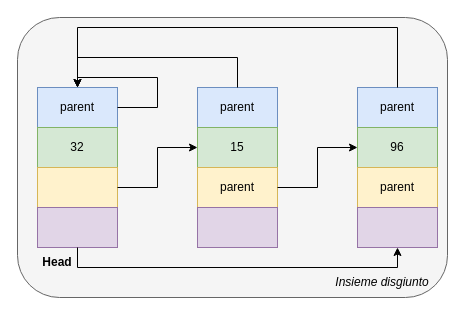
Some shapes in this 465 by 315 pixel diagram are drawn without their labels. The centre of each missing label's shape, as x and y in pixels:
next: the point at 77,187
tail: the point at 77,227
